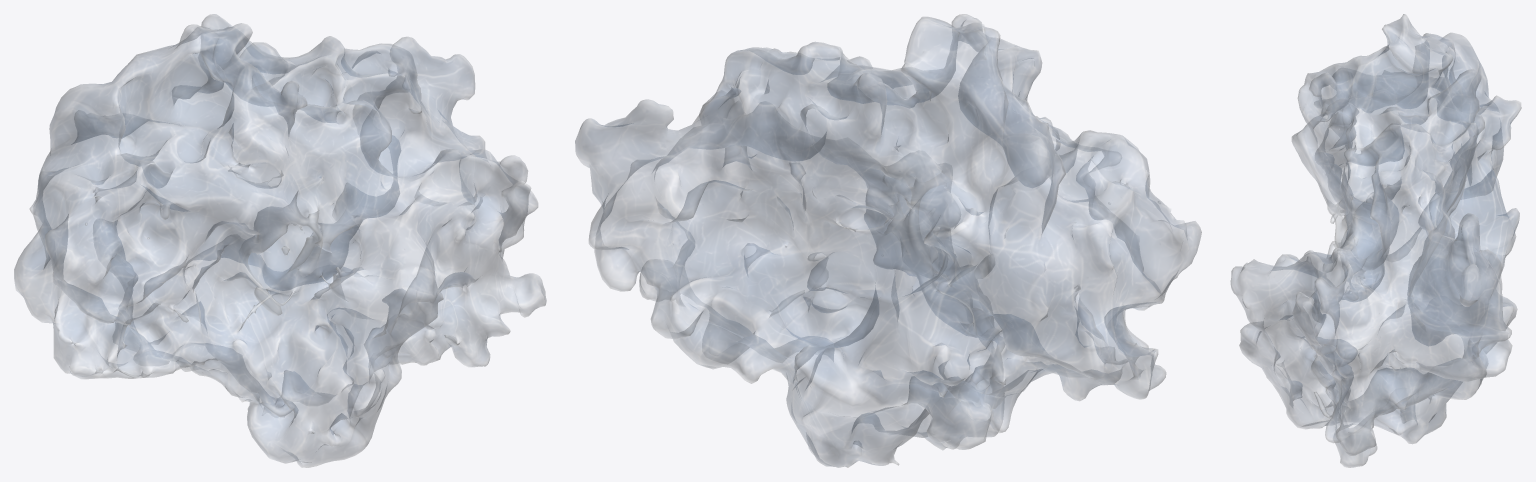
The model's file is nutrient-floc.glb.
3 views of the same model, side by side, from view 1: azimuth 30°, elevation 25°; view 2: azimuth 150°, elevation 25°; view 3: azimuth 270°, elevation 25° (orthographic). The views are drawn at different scales.
Parts seen in each view (by area): view 1: SourceFloc; view 2: SourceFloc; view 3: SourceFloc.
Part boxes in pixels (left/top/right/bottom): SourceFloc: left=14, top=14, right=546, bottom=467; SourceFloc: left=575, top=14, right=1201, bottom=467; SourceFloc: left=1230, top=14, right=1521, bottom=467.
Size of the model in its own units: 1.76 by 1.46 by 1.02.
1 material, 1 textured.
